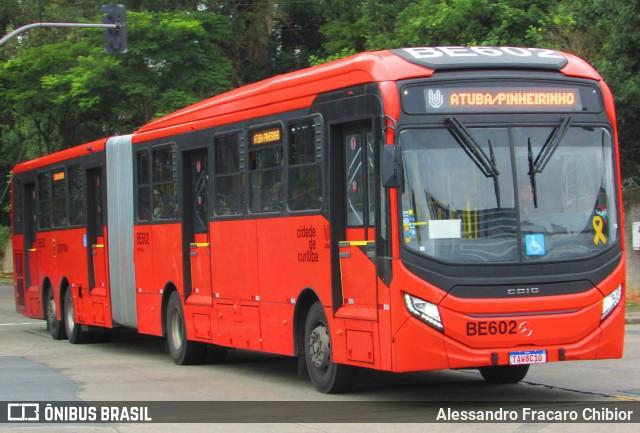ATUBA PINHEIRINHO: (445, 88, 579, 112)
